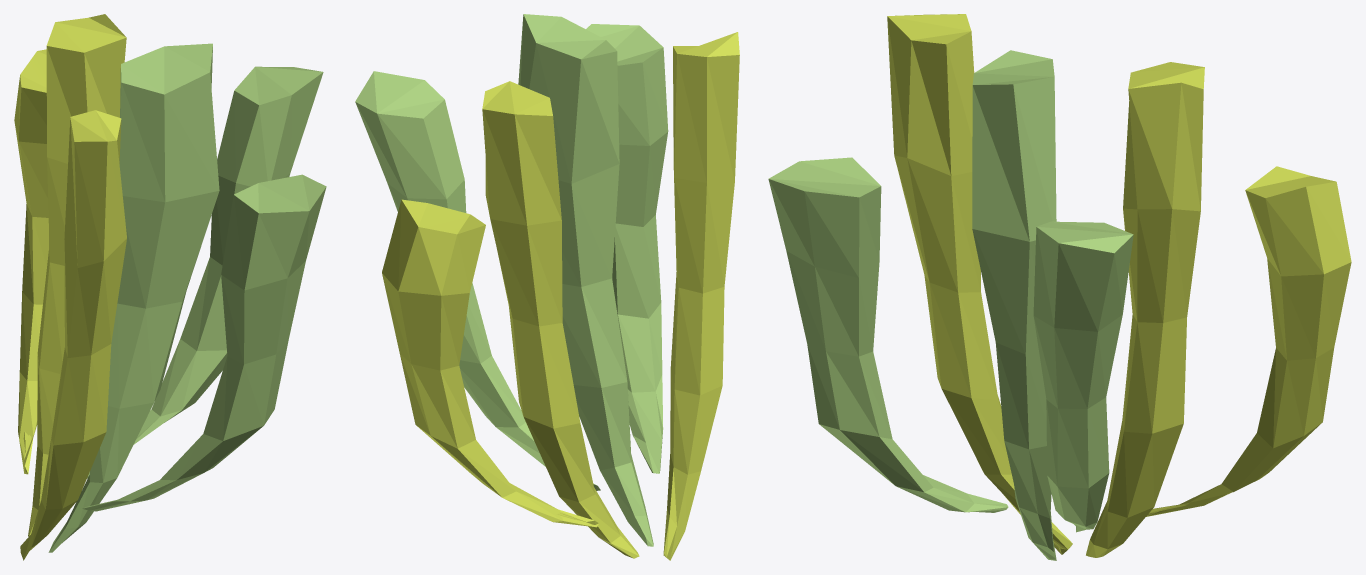
File: more_rasa_1.glb
The picture shows the model from 3 angles, left to right: view 1: azimuth 30°, elevation 25°; view 2: azimuth 150°, elevation 25°; view 3: azimuth 270°, elevation 25°; orthographic projection. The views are drawn at different scales.
Visible parts, largest first — view 1: more_rasa_1; view 2: more_rasa_1; view 3: more_rasa_1.
Boxes of the visible parts, box(x1,y1,x2,y2) form: more_rasa_1: box(14, 14, 326, 560); more_rasa_1: box(355, 14, 739, 560); more_rasa_1: box(768, 14, 1351, 560).
Size of the model in its own units: 0.8169 by 1.24 by 1.16.
Materials: 1 (1 with a texture image).
